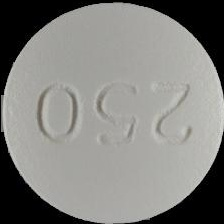60760-512: (0, 0, 224, 224)
